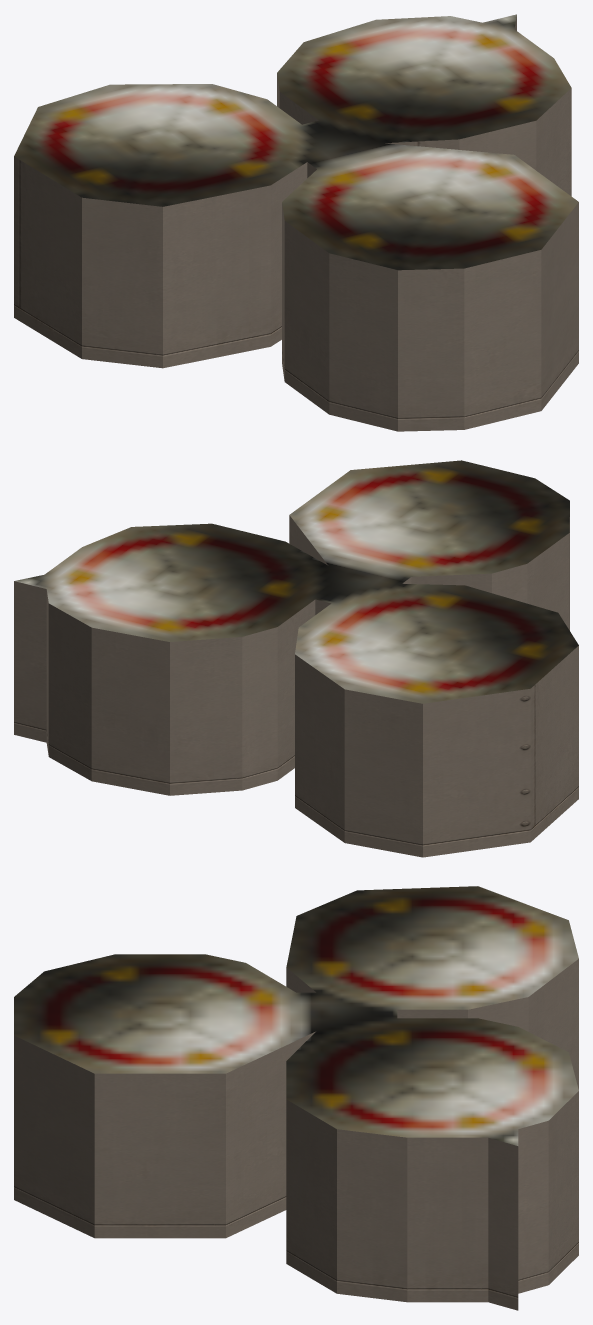
File: fuel_tank_light_02.glb
3 renders of one model, top to bottom at view 1: azimuth 30°, elevation 25°; view 2: azimuth 150°, elevation 25°; view 3: azimuth 270°, elevation 25°, orthographic. The views are drawn at different scales.
Parts seen in each view (by area): view 1: buildings/saxarba/fuel_tanks/fuel_tank_light_02; view 2: buildings/saxarba/fuel_tanks/fuel_tank_light_02; view 3: buildings/saxarba/fuel_tanks/fuel_tank_light_02.
Part boxes in pixels (x1,y1,x2,y2): buildings/saxarba/fuel_tanks/fuel_tank_light_02: [14, 14, 578, 431]; buildings/saxarba/fuel_tanks/fuel_tank_light_02: [14, 460, 578, 857]; buildings/saxarba/fuel_tanks/fuel_tank_light_02: [14, 886, 578, 1310].
Bounding box in the file's own units: 61 × 18 × 56.
